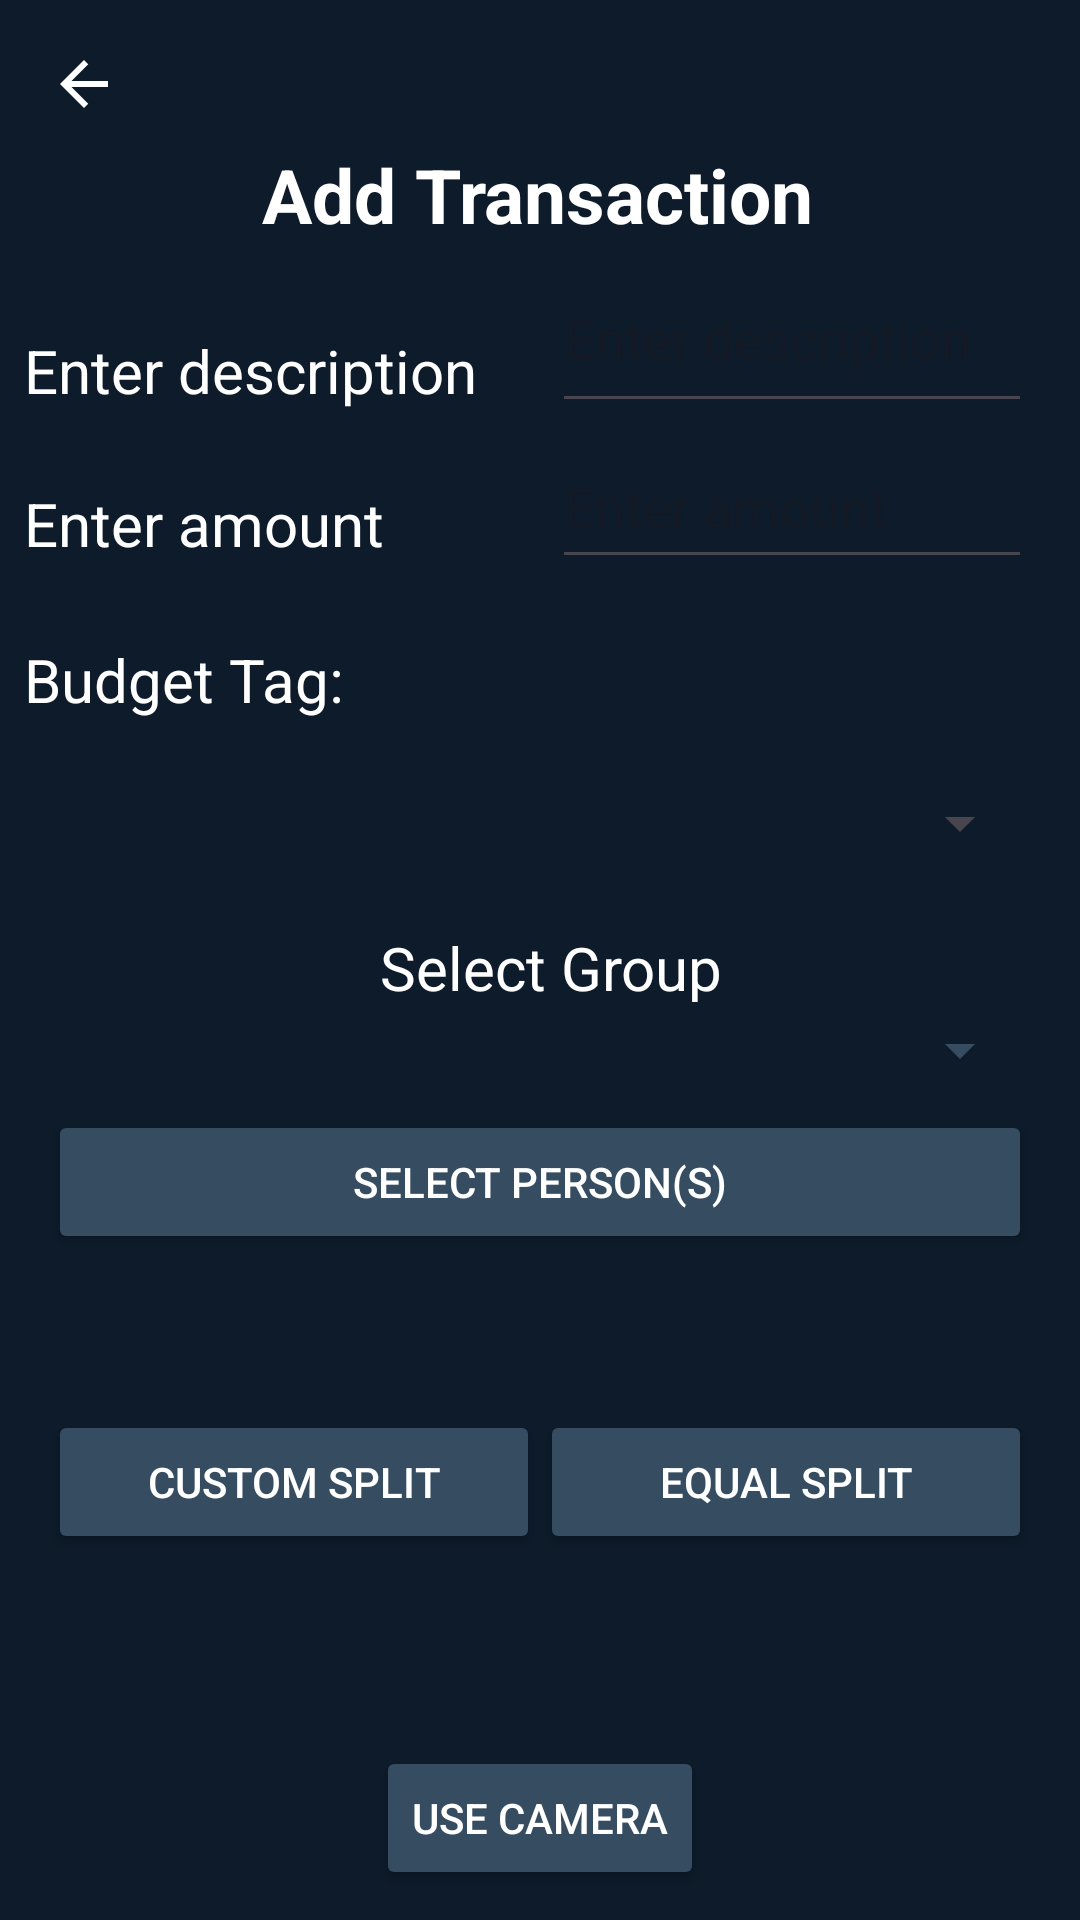

Where to tap for icons on this 1080 × 1920 app screen, as (x,y):
back arrow: (84,84)
